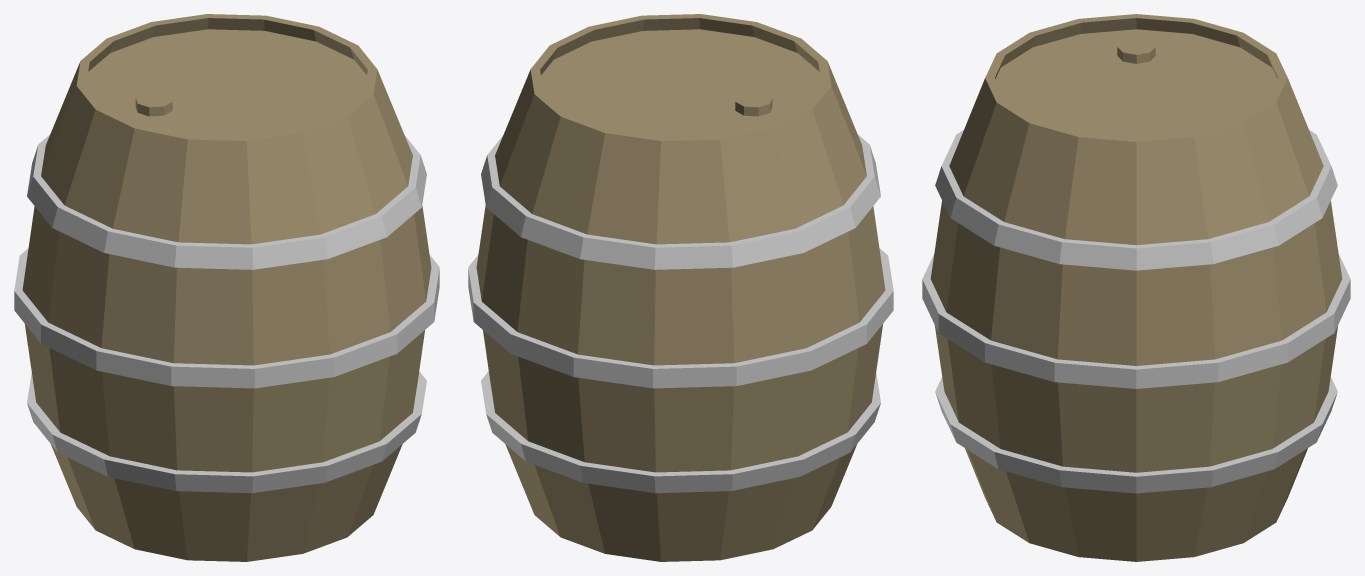
File: sud.fbx
3 renders of one model, left to right at view 1: azimuth 30°, elevation 25°; view 2: azimuth 150°, elevation 25°; view 3: azimuth 270°, elevation 25°, orthographic.
Parts seen in each view (by area): view 1: Cylinder; view 2: Cylinder; view 3: Cylinder.
Part boxes in pixels (<box>): Cylinder: <box>14,14,439,561</box>; Cylinder: <box>468,14,893,561</box>; Cylinder: <box>922,14,1350,561</box>.
Size of the model in its own units: 252 by 273 by 252.
